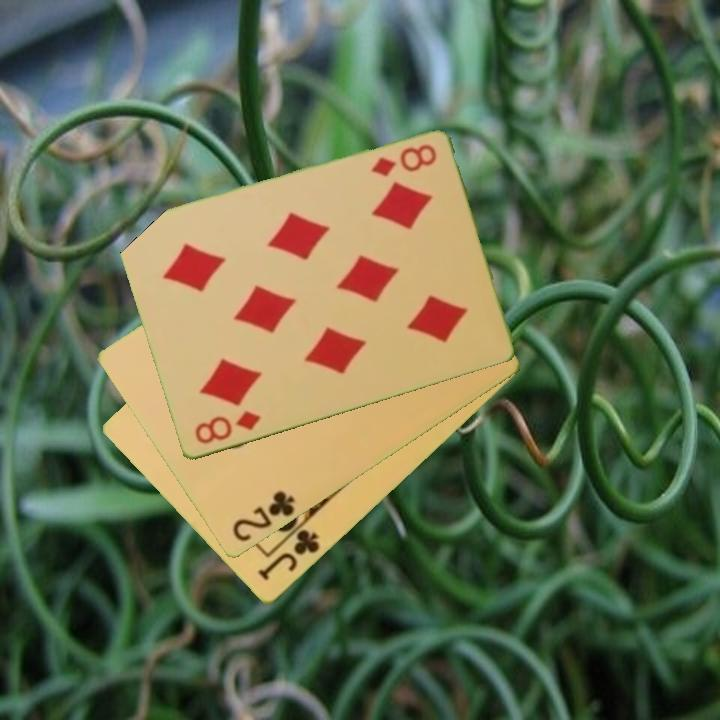2c: (228, 487, 298, 546)
8d: (190, 407, 263, 448), (367, 141, 440, 180)
Jc: (254, 526, 323, 584)
